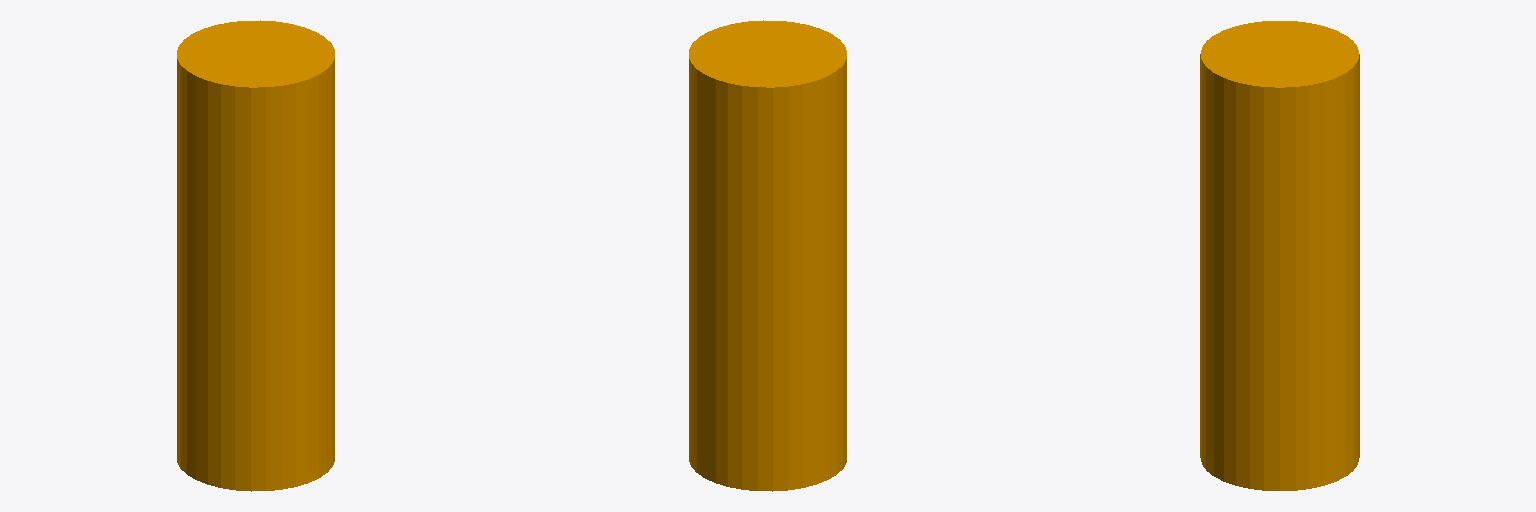
The robot description file, URDF, robot "can_3":
<?xml version="1.0"?>
<robot name="can_3">
	<link name="base">
	<inertial>
        	 <origin xyz="0 0 0.07" rpy="0 0 0"/>
        	 <mass value="0.05"/>
        	 <inertia ixx="0.000683333"  ixy="0"  ixz="0" iyy="0.000683333" iyz="0" izz="0.000683333" />
       </inertial>
	<visual>
                <origin xyz="0.0 0.0 0.07" rpy="0 0 0" />
                <!--origin xyz="0.0 0.0 0.055" rpy="0 0 0" /-->
		<geometry>
                         <!--<mesh filename="can/cokecan2.dae" scale="0.0254 0.0254 0.0254"/>-->
            <cylinder length="0.14" radius="0.025"/>
      		</geometry>
		<!--material>
                    <color rgba="0 0 1 1" />
		</material-->
		</visual>
  	 <collision>
		<!--origin xyz="0.0 0.0 -0.00255" rpy="0 0 0"/-->
		<origin xyz="0.0 0.0 0.08" rpy="0 0 0"/>
            <geometry>
       			 <!--mesh filename="can/cokecan.dae"  scale="0.0254 0.0254 0.0254"/-->
                         <cylinder length="0.14" radius="0.025"/>
            </geometry>
	    <material>
			<color rgba="0 1 0 1" />
	    </material>
        </collision>
	</link>
</robot>

--- Render facts (derived) ---
The picture shows the robot from 3 angles, left to right: view 1: azimuth 30°, elevation 25°; view 2: azimuth 150°, elevation 25°; view 3: azimuth 270°, elevation 25°; orthographic projection.
Robot: can_3 — 1 links, 0 joints (none); root link base; default pose: all joints at 0.
Links seen in each view (by area): view 1: base; view 2: base; view 3: base.
Link boxes in pixels (<box>): base: <box>177,20,334,491</box>; base: <box>689,20,846,491</box>; base: <box>1200,21,1359,490</box>.
Size in the robot's own frame: 0.05 by 0.05 by 0.14 metres.
Geometry: primitives only (box / cylinder / sphere), no mesh files.
